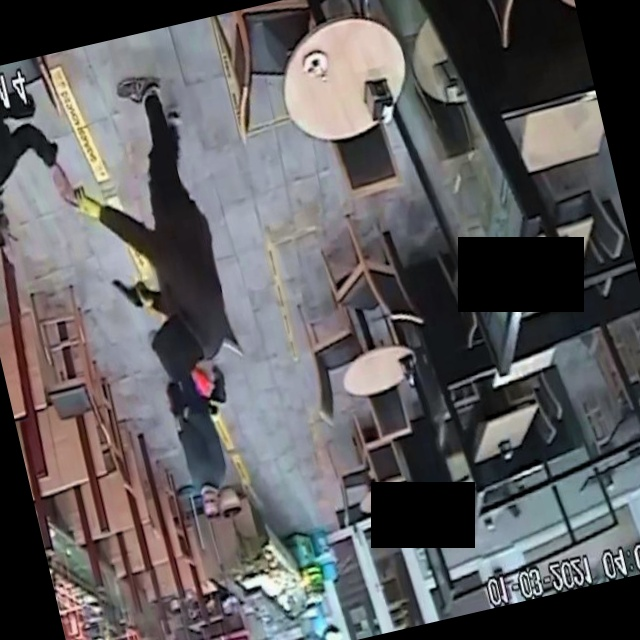gun: (94, 257, 162, 326)
